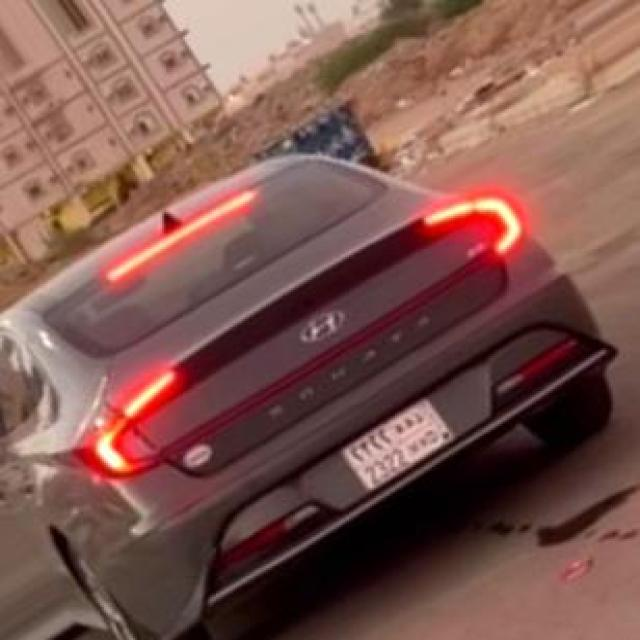Car-plate: (310, 388, 466, 497)
